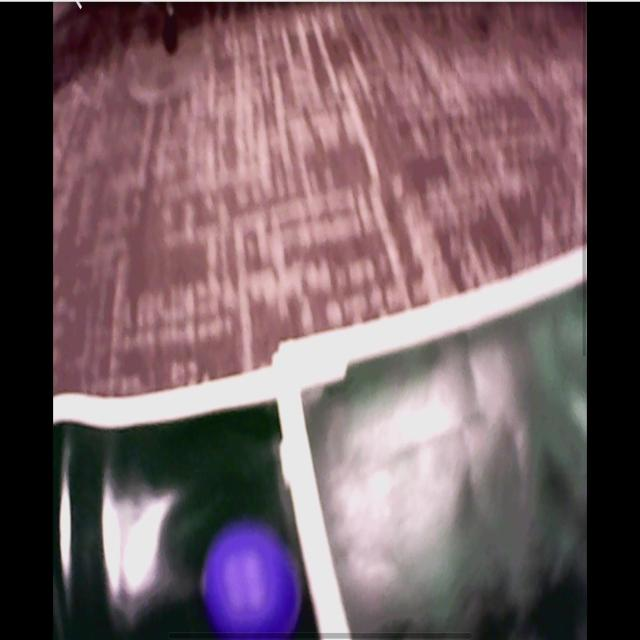ball: (206, 528, 295, 637)
